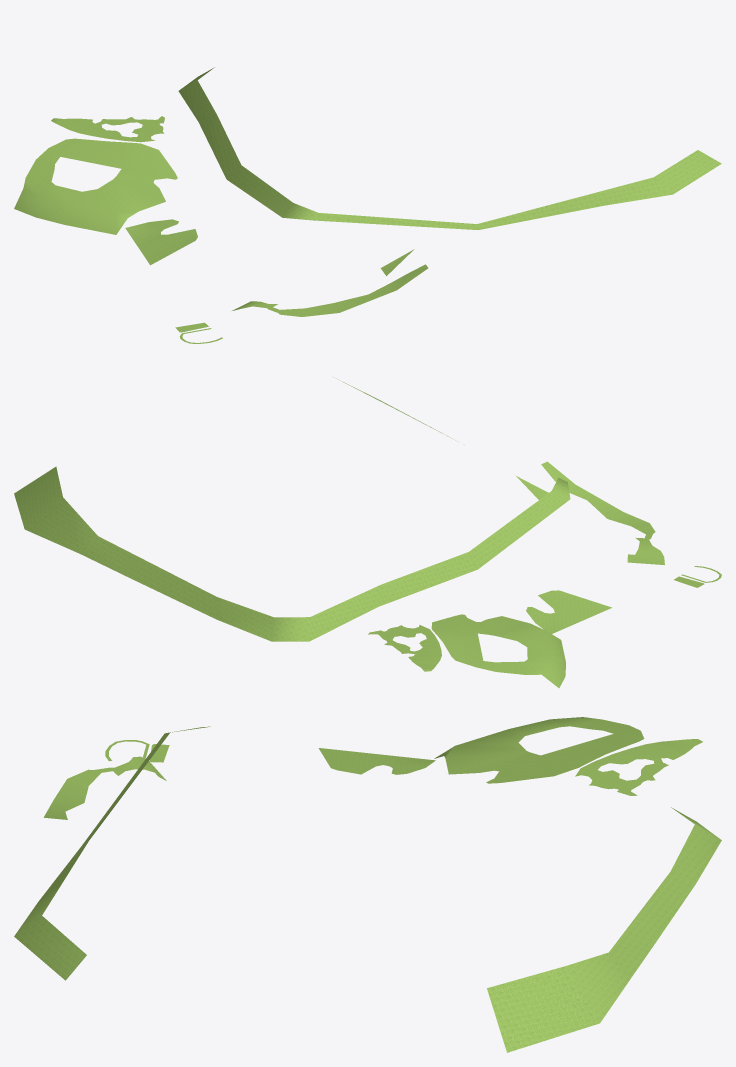
The model's file is kd_stage_1364a3_7_3.glb.
The picture shows the model from 3 angles, top to bottom: view 1: azimuth 30°, elevation 25°; view 2: azimuth 150°, elevation 25°; view 3: azimuth 270°, elevation 25°; orthographic projection. The views are drawn at different scales.
Parts seen in each view (by area): view 1: kd_stage_1364a3_7_3; view 2: kd_stage_1364a3_7_3; view 3: kd_stage_1364a3_7_3.
Part boxes in pixels (x1,y1,x2,y2): kd_stage_1364a3_7_3: (14,67,721,343); kd_stage_1364a3_7_3: (14,377,721,687); kd_stage_1364a3_7_3: (14,717,721,1052).
Size of the model in its own units: 396 by 52.15 by 312.
Materials: 1 (1 with a texture image).
